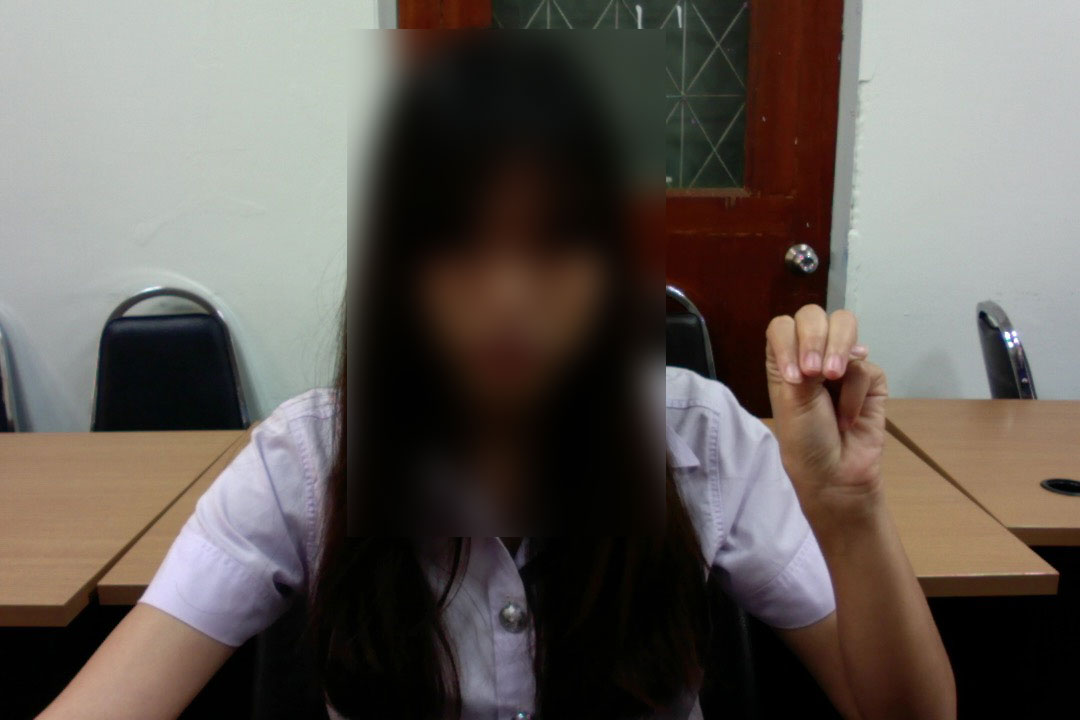mor: (760, 292, 895, 518)
